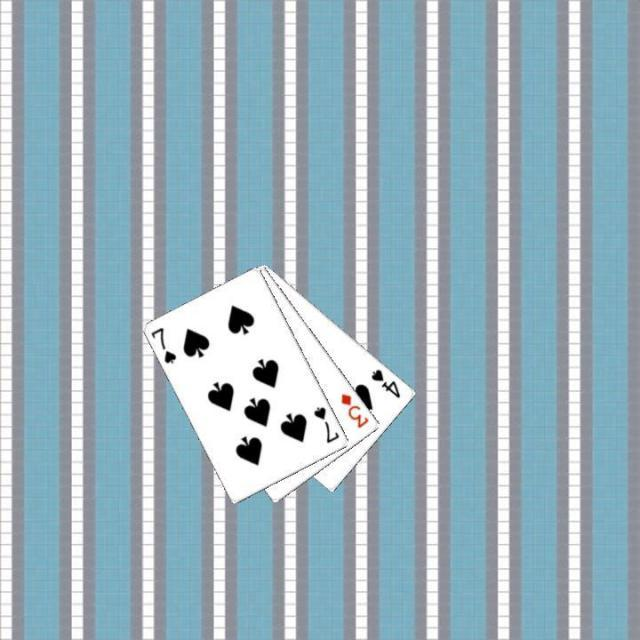3D: (337, 390, 371, 430)
4S: (368, 365, 403, 400)
7S: (310, 402, 342, 444), (148, 324, 178, 366)
